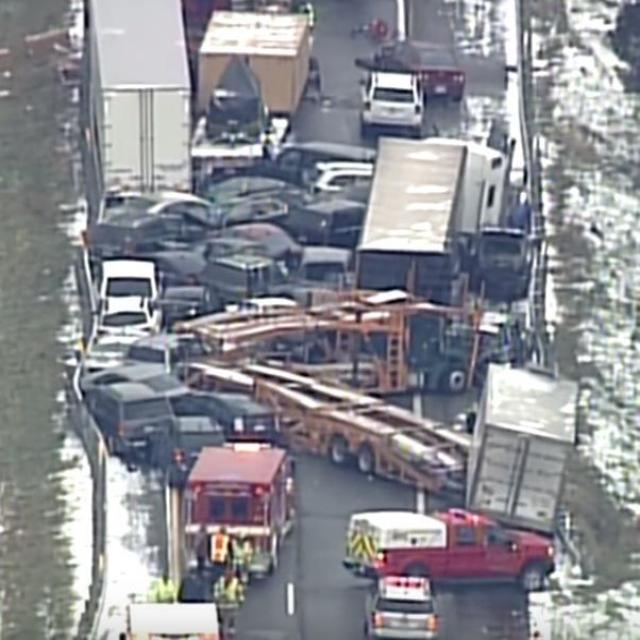traffic_incident: (78, 108, 571, 529)
